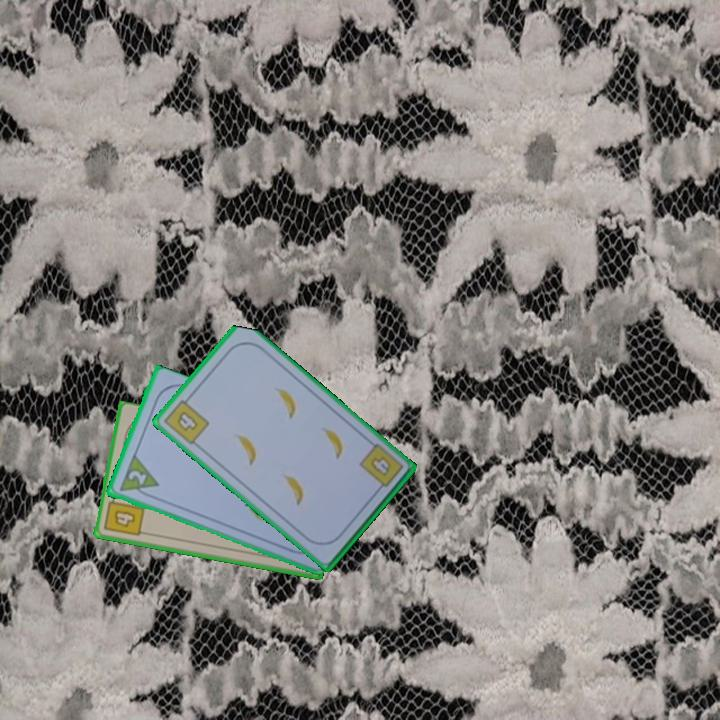2p: (115, 453, 161, 502)
4b: (160, 392, 212, 448), (355, 440, 406, 496), (101, 491, 147, 539)
